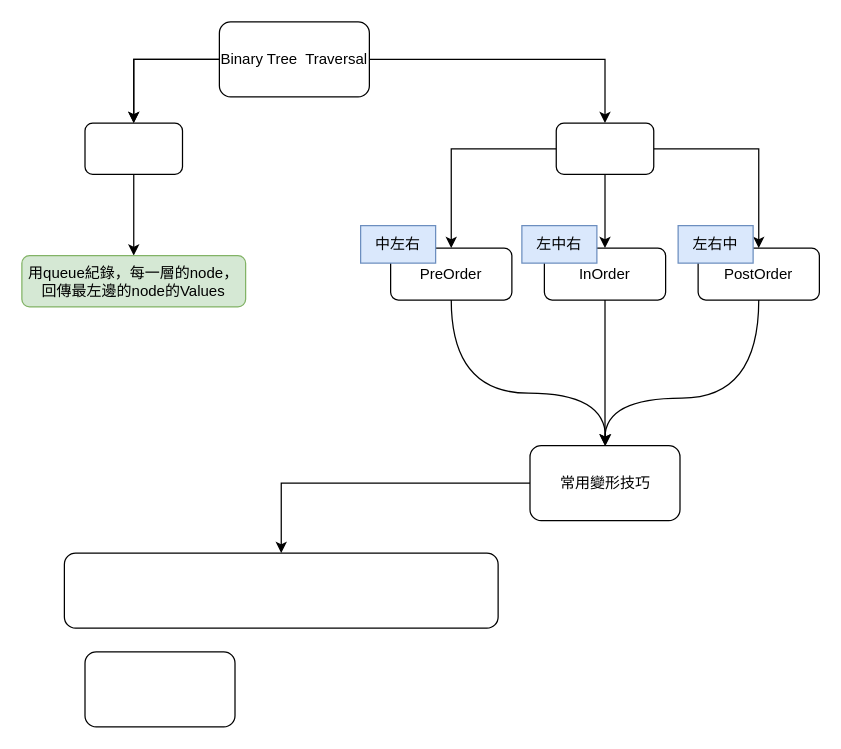
This 841x749 diagram has some shape labels left out. Each missing label, with the box of its shape:
BFS: (84, 122, 182, 174)
Traversal: (555, 122, 654, 174)
在Traversal的過程中，傳遞其他參數: (63, 552, 498, 628)
目前是第幾個的layer: (84, 651, 235, 727)
